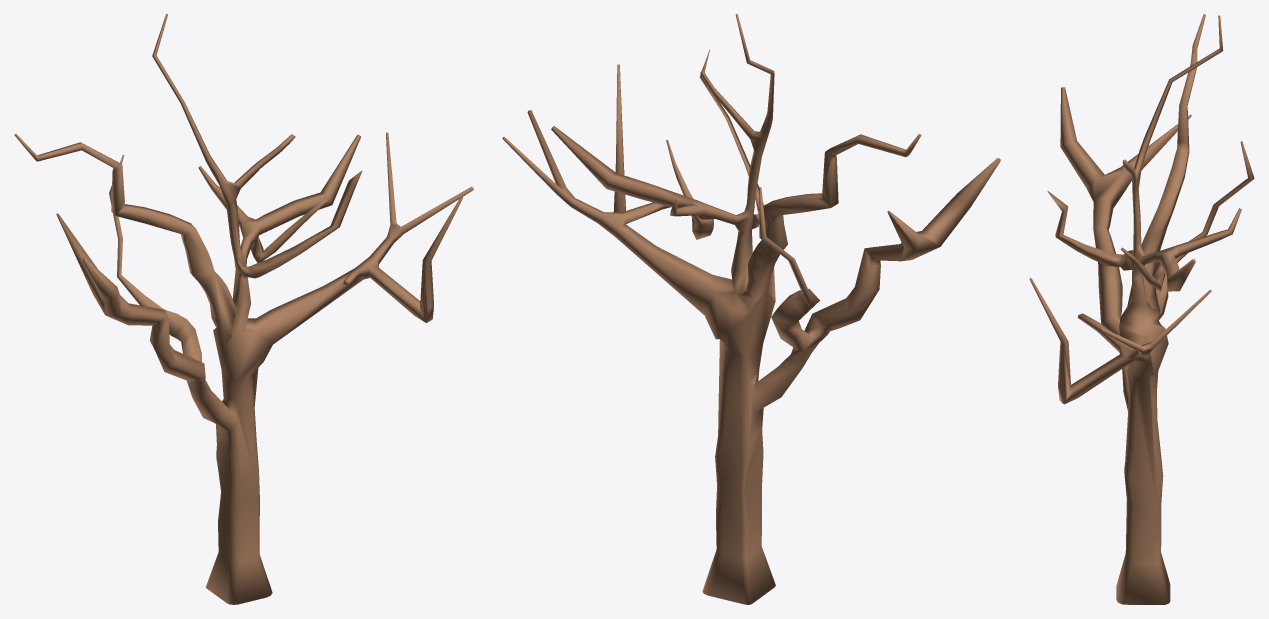
File: tree.fbx
3 views of the same model, side by side, from view 1: azimuth 30°, elevation 25°; view 2: azimuth 150°, elevation 25°; view 3: azimuth 270°, elevation 25° (orthographic). The views are drawn at different scales.
Visible parts, largest first — view 1: Cube; view 2: Cube; view 3: Cube.
Part boxes in pixels (bbox=[...]): Cube: bbox=[14, 14, 473, 604]; Cube: bbox=[502, 14, 1000, 604]; Cube: bbox=[1029, 14, 1254, 604].
Size of the model in its own units: 587 by 763 by 278.
